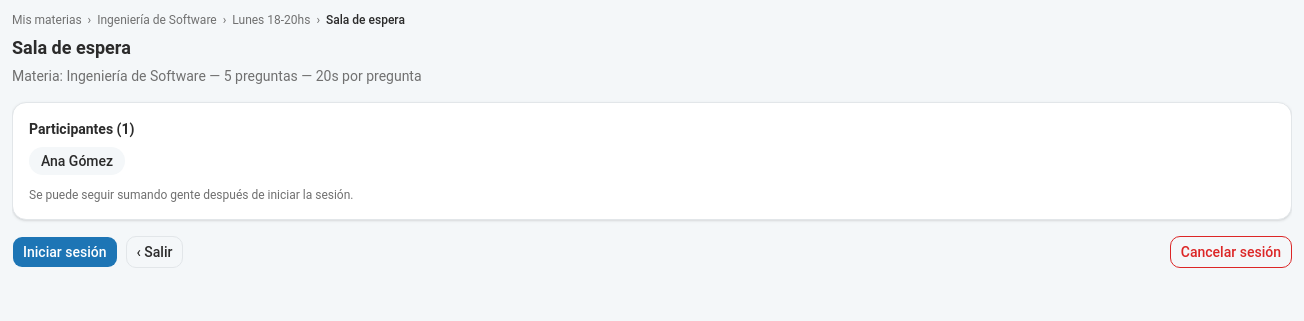
Test: SalaEsperaDocente › 422 SinParticipantes (US-ADJ-58) se queda en la sala con el aviso
Check: the text "5 preguntas" is shown, box [12, 68, 422, 84]
Step 1. Click the button "Iniciar sesión" → (65, 252), box [12, 236, 118, 268]
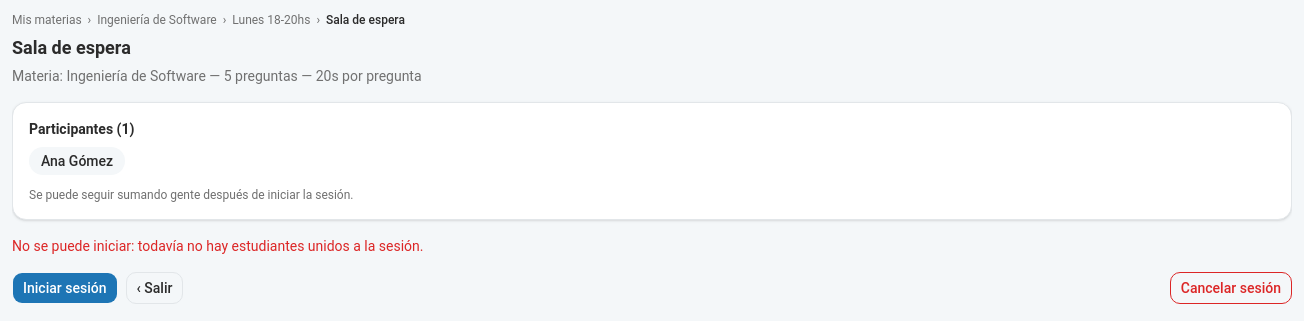
Check: the button "Iniciar sesión" is enabled, box [12, 272, 118, 304]
Check: the message shows "todavía no hay estudiantes unidos", box [12, 238, 424, 254]
